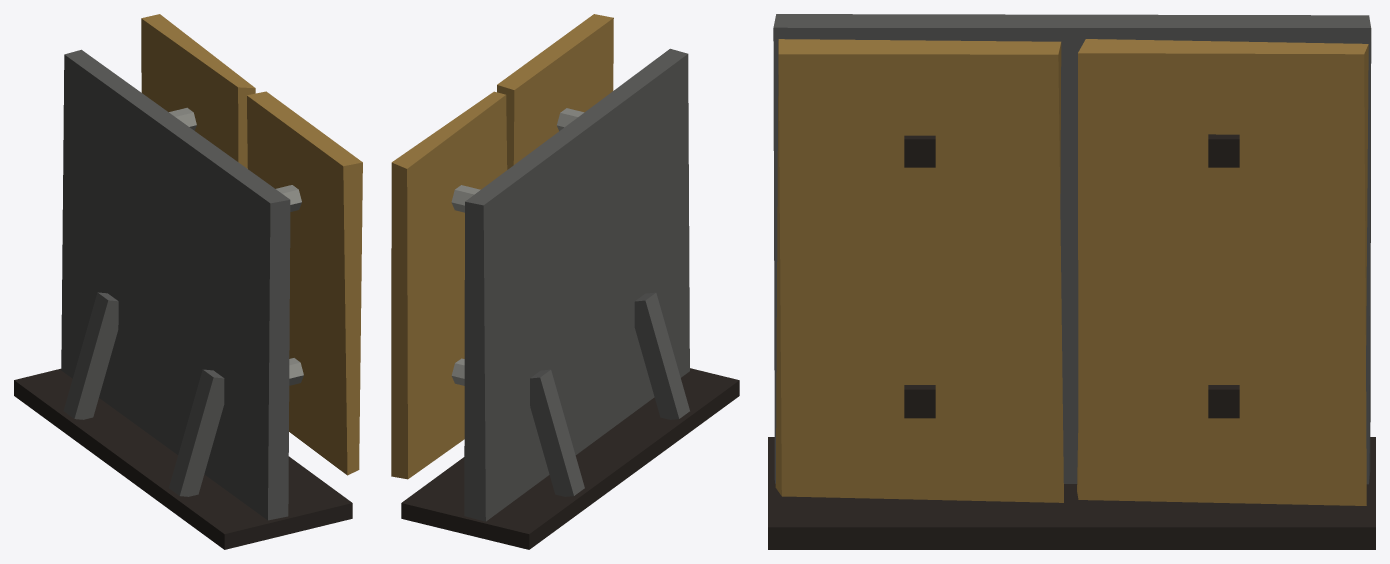
File: arm_spaced.glb
3 renders of one model, left to right at view 1: azimuth 30°, elevation 25°; view 2: azimuth 150°, elevation 25°; view 3: azimuth 270°, elevation 25°, orthographic. The views are drawn at different scales.
Visible parts, largest first — view 1: arm_spaced; view 2: arm_spaced; view 3: arm_spaced.
Part boxes in pixels (x1=…): arm_spaced: x1=14, y1=14, x2=362, y2=549; arm_spaced: x1=391, y1=14, x2=739, y2=549; arm_spaced: x1=768, y1=14, x2=1375, y2=549.
Size of the model in its own units: 0.39 by 0.8964 by 0.968.
